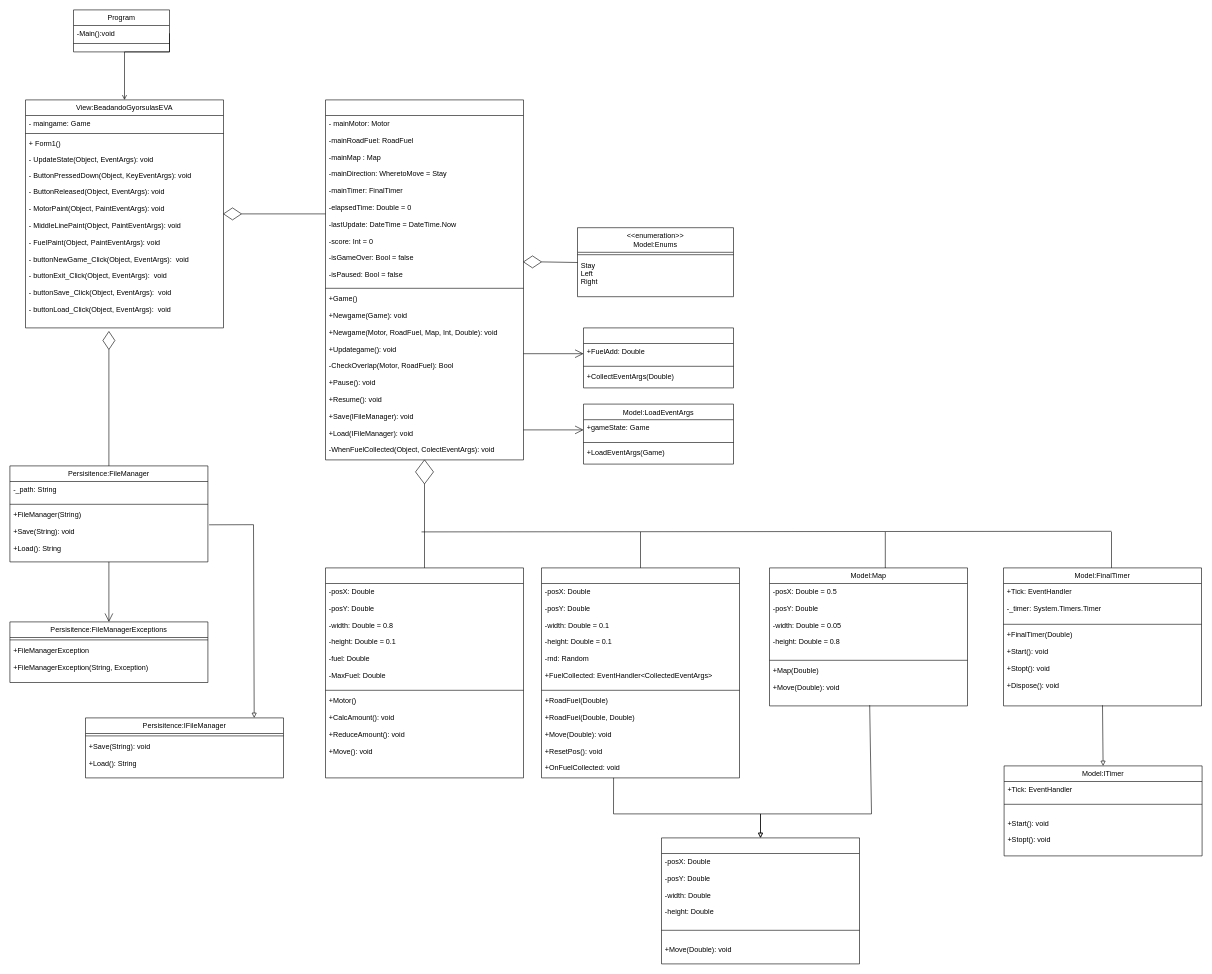
This 1212x974 diagram has some shape labels left out. The shapes that lost their labels are listed below. From the top down, each one's box as (x1, y1, x2, y2) in pixels, then its label:
(325, 99, 524, 460): Model:Game
(583, 327, 734, 388): Model:CollectEventArgs
(325, 567, 524, 778): Model:Motor
(541, 567, 740, 778): Model:RoadFuel
(661, 837, 860, 964): Model:IMove
